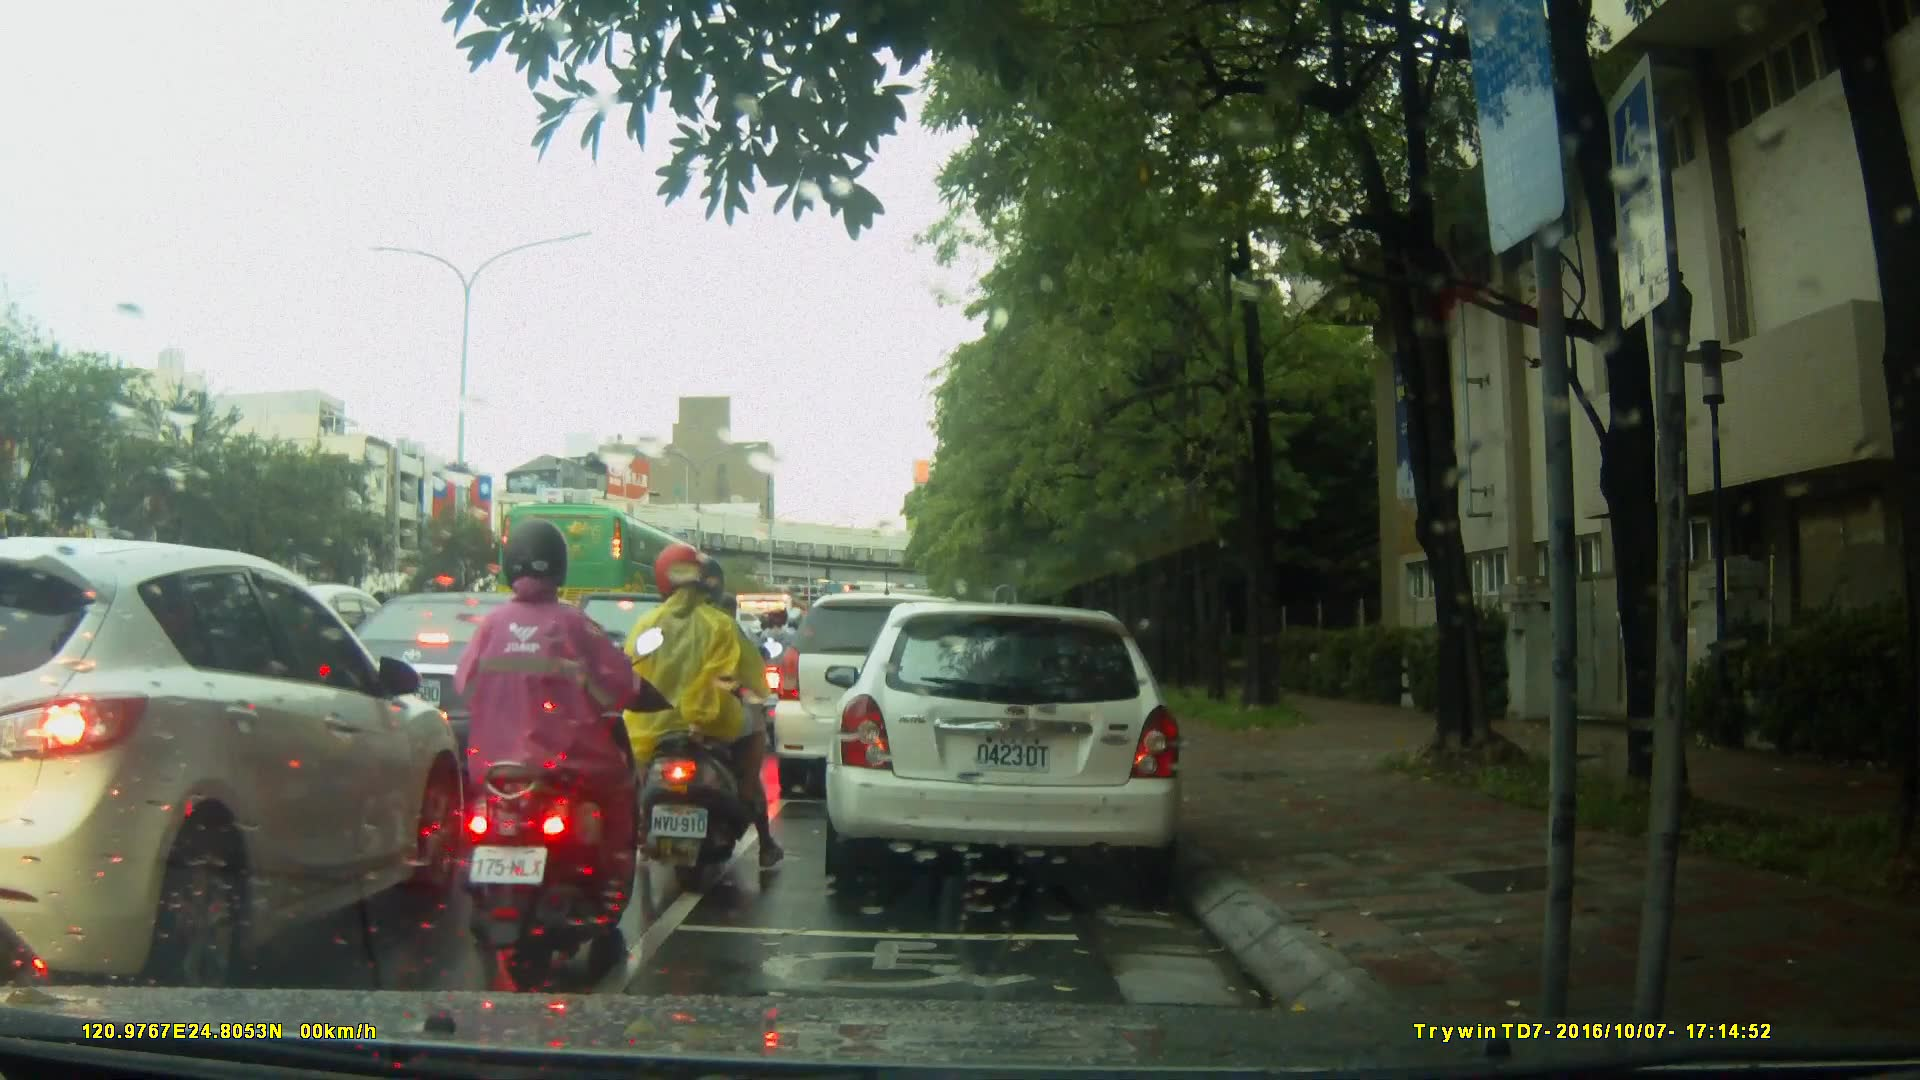rider: (450, 523, 638, 984), (617, 540, 786, 879), (700, 589, 781, 770), (750, 603, 811, 733)
vehicle: (4, 536, 467, 988), (831, 592, 1196, 897), (318, 589, 629, 776), (770, 590, 999, 804), (496, 500, 710, 636)
